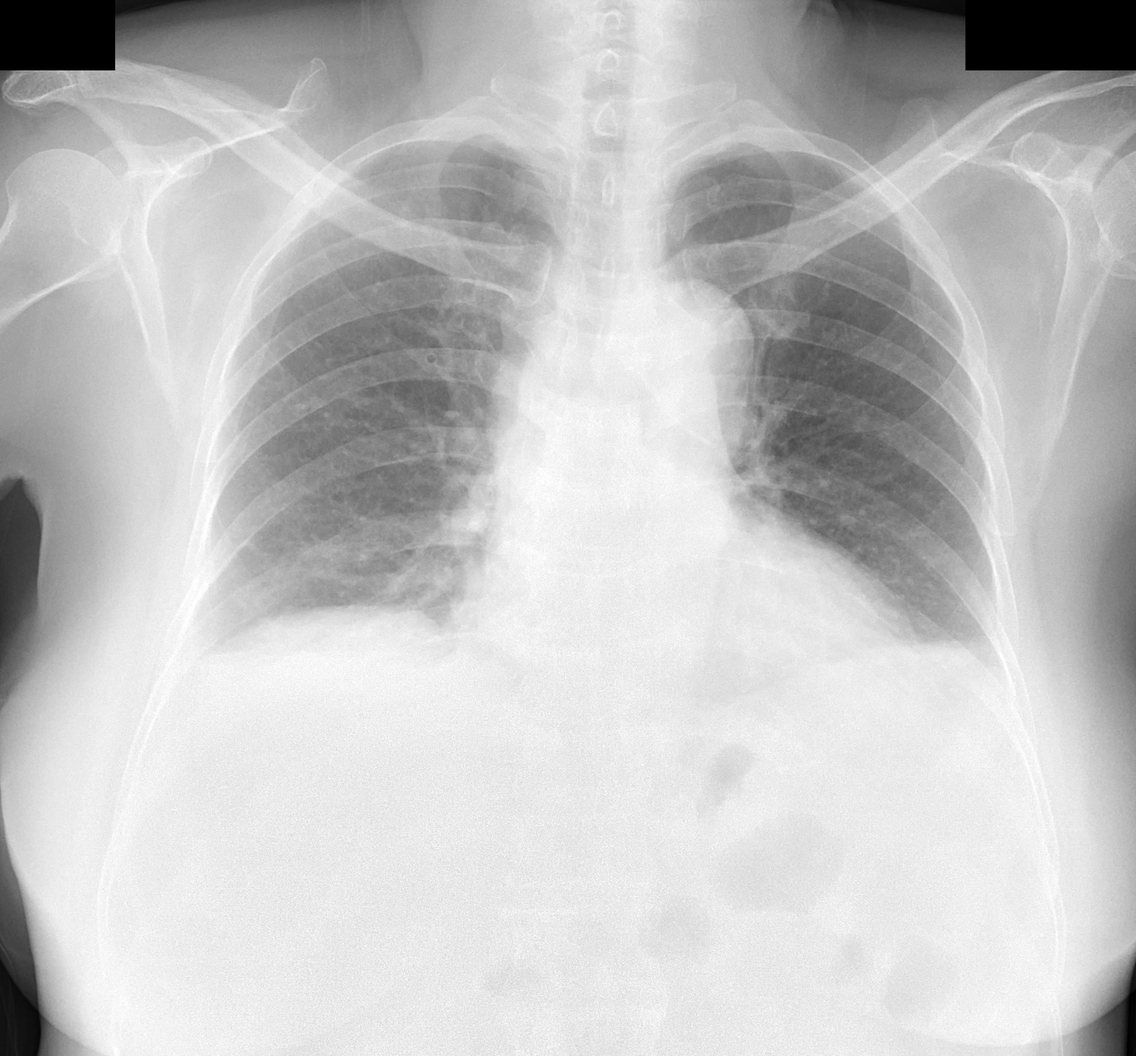Aortic enlargement: (598, 277, 751, 436)
Cardiomegaly: (440, 559, 908, 713)
Pleural thickening: (949, 625, 1013, 700)
